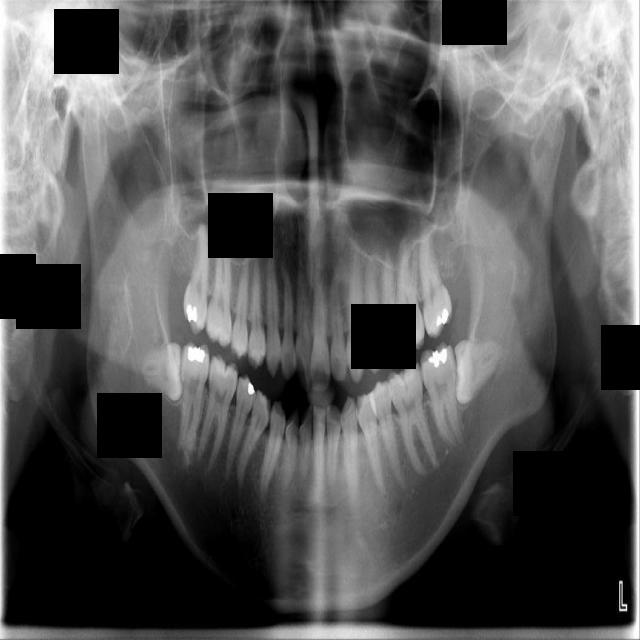52: (420, 341, 457, 398), (421, 284, 454, 341), (179, 279, 211, 337), (179, 339, 212, 389), (378, 315, 402, 361), (236, 373, 257, 418)
73: (602, 588, 610, 604)
BioHorizons Implant: (415, 214, 455, 340)
Biomet 3i Implant: (452, 338, 501, 406)
Blue Sky Bio Implant: (415, 340, 468, 456)
Caries: (183, 221, 209, 336)
Implant: (176, 339, 211, 452)
Keystone Dental Implant: (142, 341, 183, 403)
